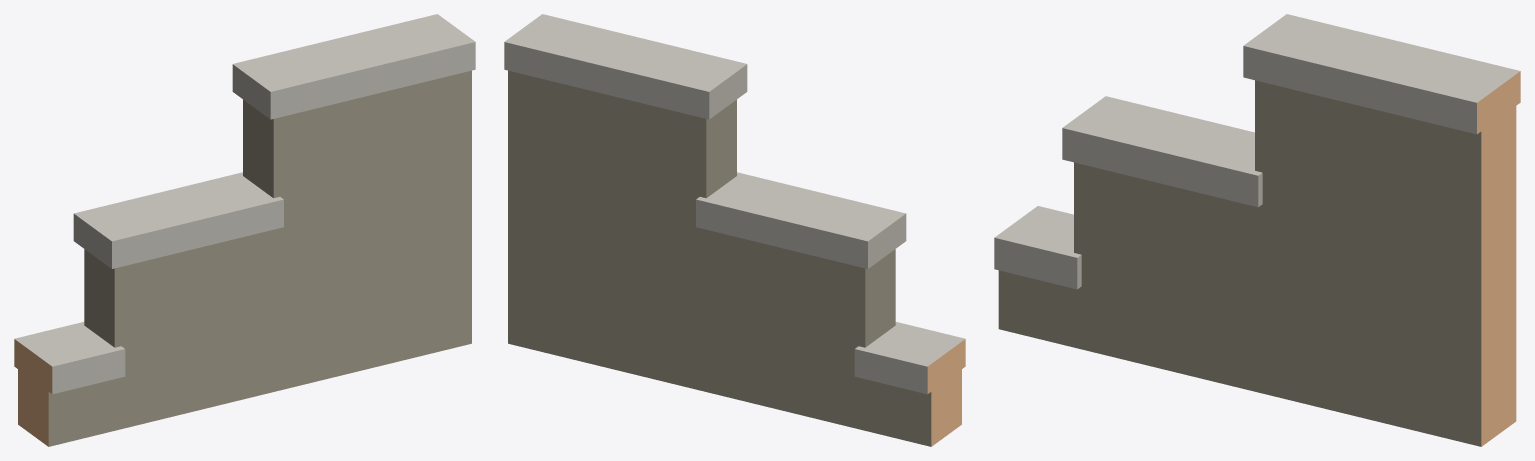
Rendered from Tiered_Retaining_Wall_Stepped_Straight_1x2.glb.
The picture shows the model from 3 angles, left to right: view 1: azimuth 30°, elevation 25°; view 2: azimuth 150°, elevation 25°; view 3: azimuth 330°, elevation 25°; orthographic projection. The views are drawn at different scales.
Visible parts, largest first — view 1: Tiered_Retaining_Wall_Stepped_Straight_1x2; view 2: Tiered_Retaining_Wall_Stepped_Straight_1x2; view 3: Tiered_Retaining_Wall_Stepped_Straight_1x2.
Part boxes in pixels (<box>): Tiered_Retaining_Wall_Stepped_Straight_1x2: <box>14,14,475,446</box>; Tiered_Retaining_Wall_Stepped_Straight_1x2: <box>504,14,965,446</box>; Tiered_Retaining_Wall_Stepped_Straight_1x2: <box>994,14,1520,446</box>.
Bounding box in the file's own units: 200 × 138 × 31.25.
